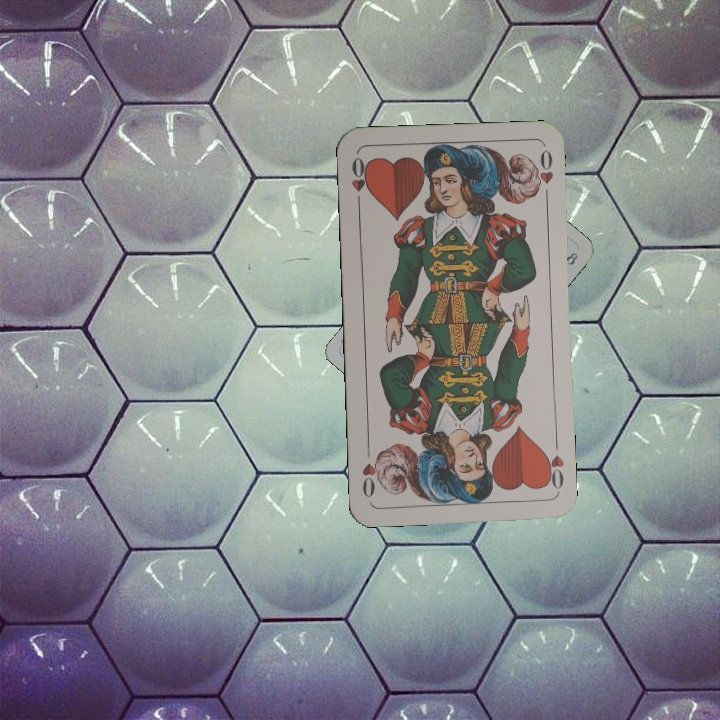HO: (347, 153, 372, 211), (540, 447, 567, 492)
